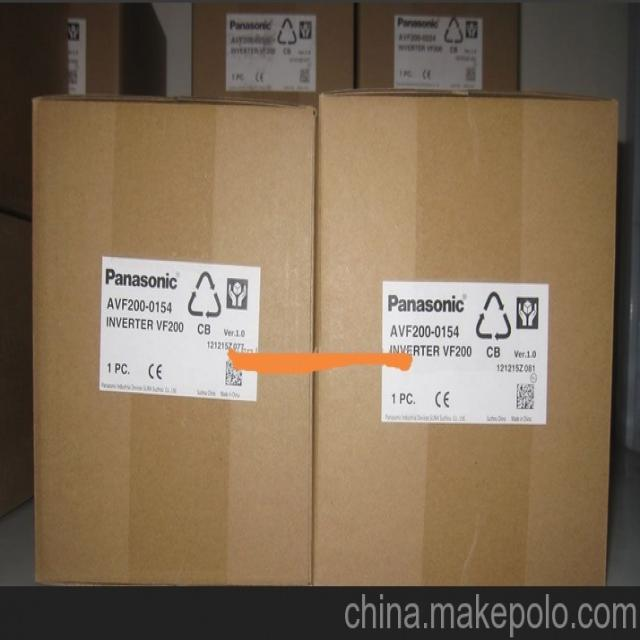box: (311, 89, 616, 587), (32, 93, 316, 588), (190, 1, 354, 110), (354, 4, 523, 95), (0, 2, 68, 219), (0, 216, 36, 521), (67, 3, 167, 97)
